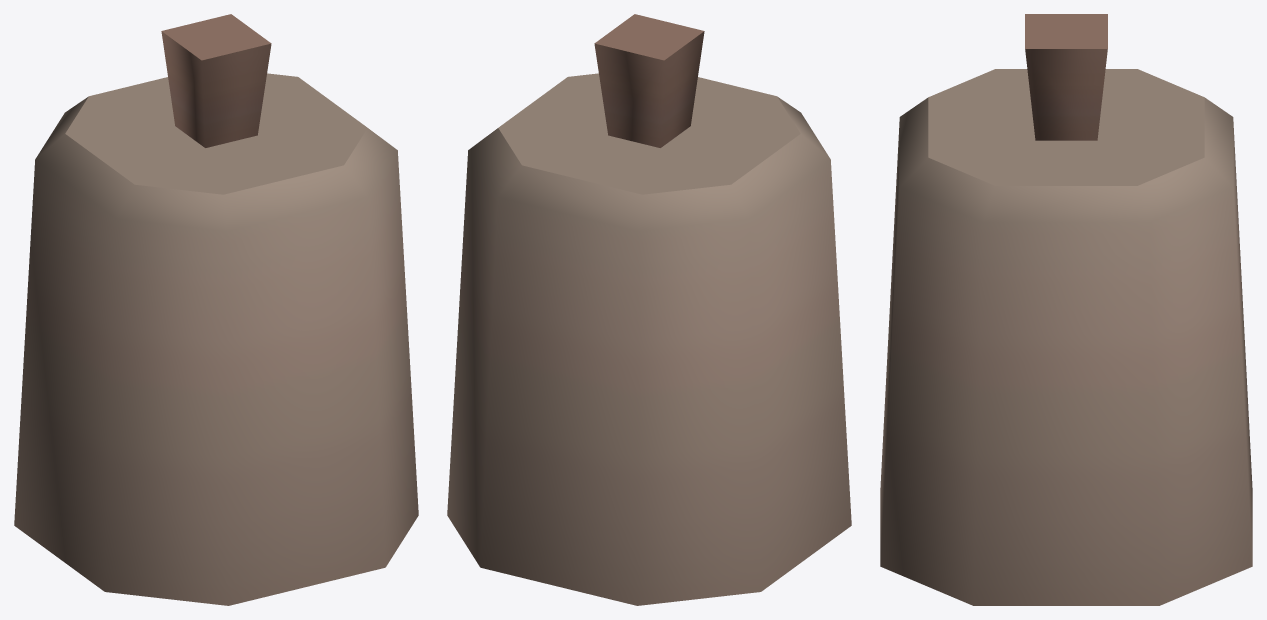
Rendered from candle.glb.
3 renders of one model, left to right at view 1: azimuth 30°, elevation 25°; view 2: azimuth 150°, elevation 25°; view 3: azimuth 270°, elevation 25°, orthographic. The views are drawn at different scales.
Parts seen in each view (by area): view 1: candle; view 2: candle; view 3: candle.
Part boxes in pixels (x1,y1,x2,y2): candle: [14, 14, 418, 605]; candle: [447, 14, 851, 605]; candle: [880, 14, 1252, 605].
Bounding box in the file's own units: 0.2042 × 0.3002 × 0.2042.
Materials: 1 (1 with a texture image).
